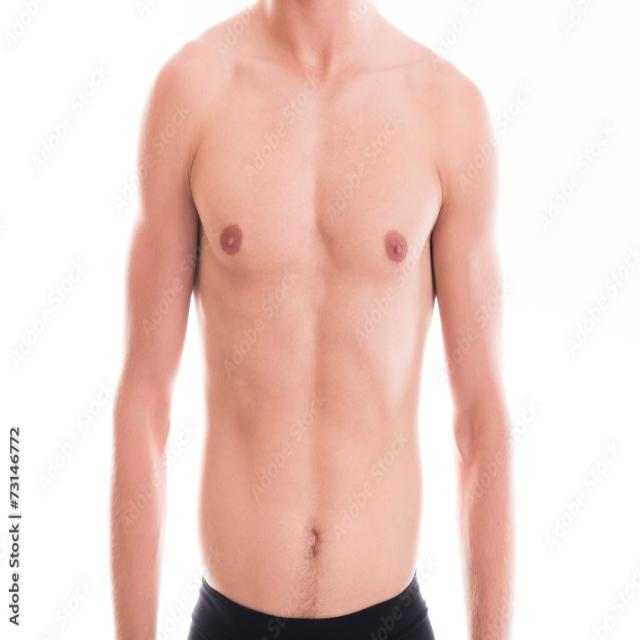piel: (110, 0, 522, 639)
